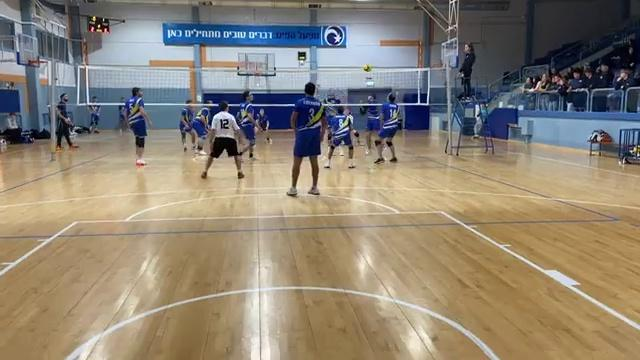ball: (363, 64, 373, 73)
